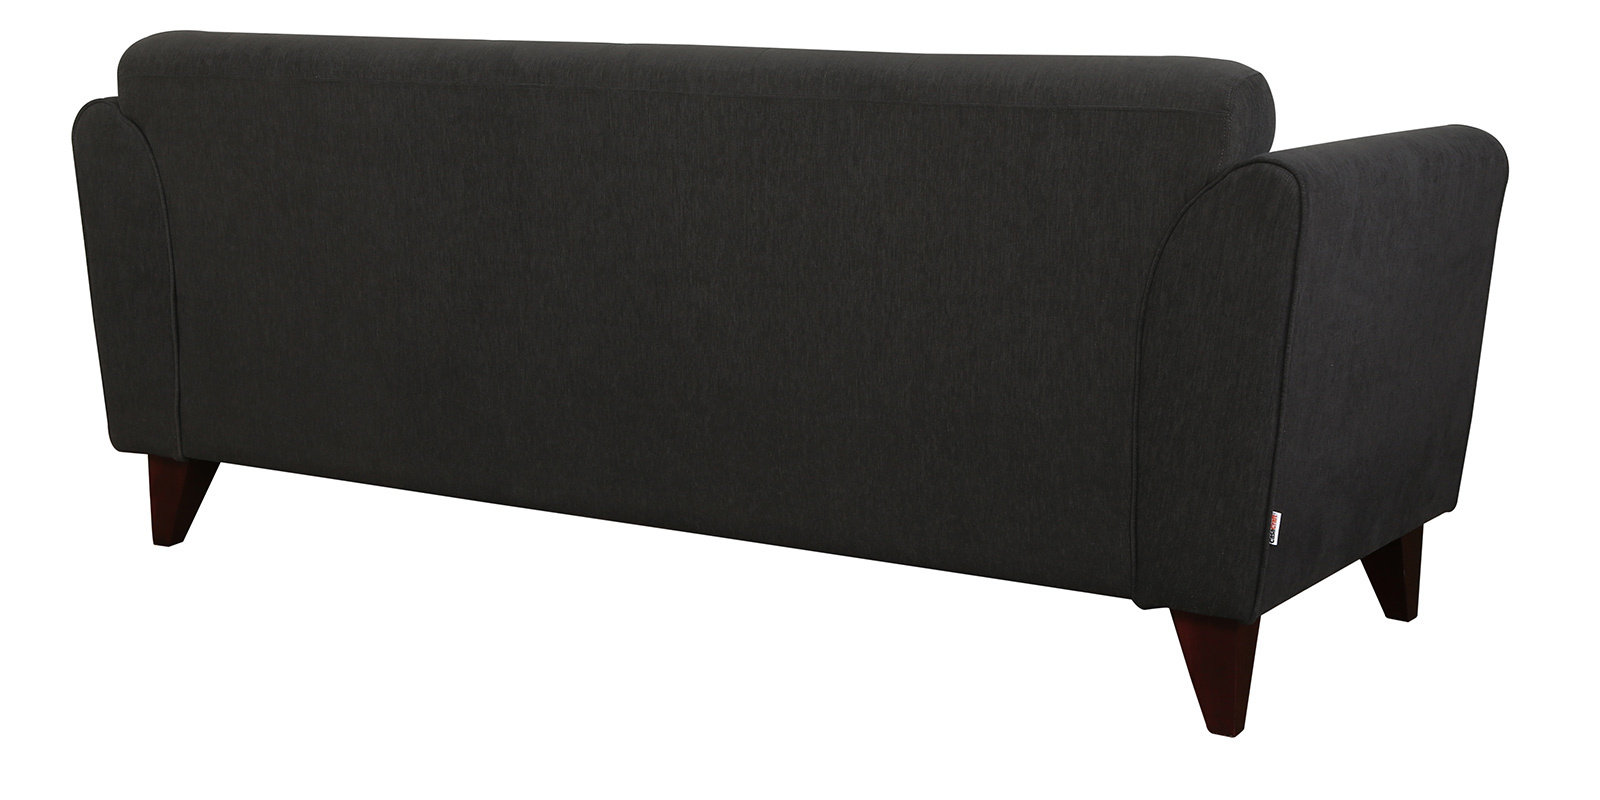Belem Three Seater Sofa in Charcoal Grey Color by CasaCraft: (47, 19, 1523, 672)
